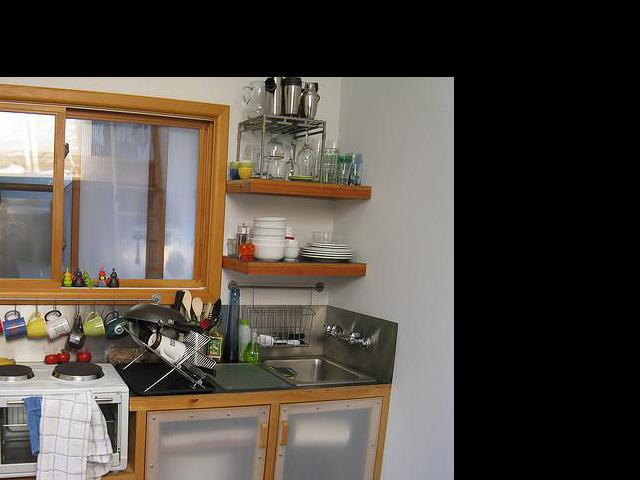Lavaplatos: (211, 344, 364, 397)
